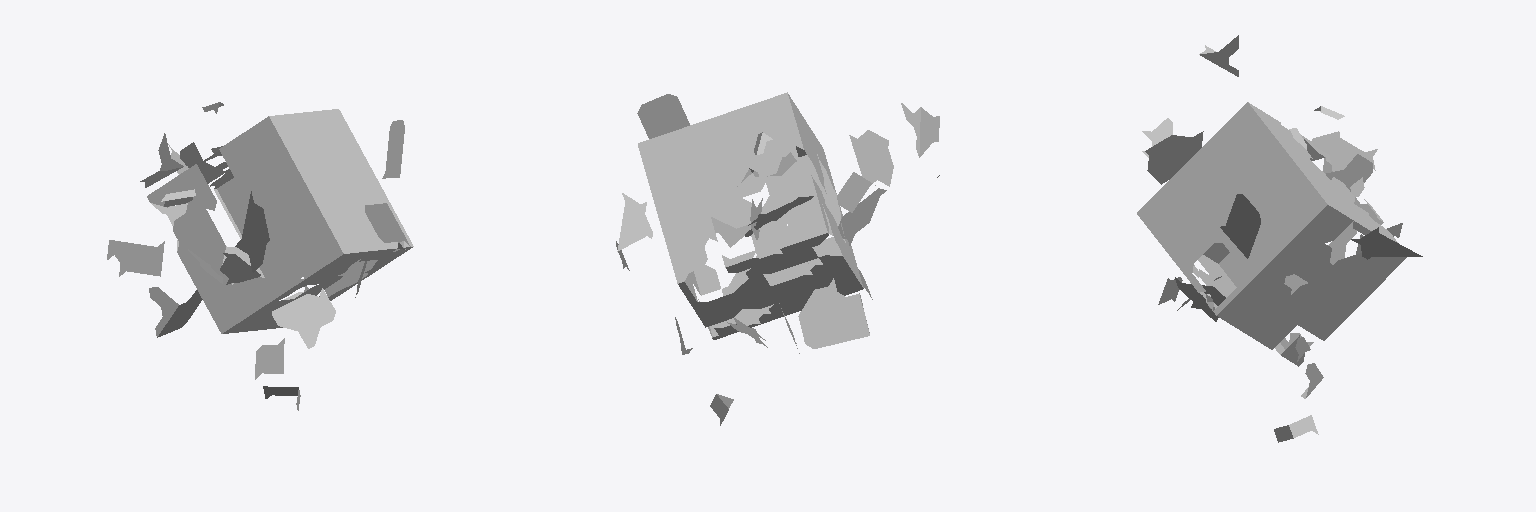
Rendered from explode_000032.obj.
The picture shows the model from 3 angles: view 1: azimuth 30°, elevation 25°; view 2: azimuth 150°, elevation 25°; view 3: azimuth 270°, elevation 25°; orthographic projection.
Parts seen in each view (by area): view 1: Cube_Cube.001; view 2: Cube_Cube.001; view 3: Cube_Cube.001.
Part boxes in pixels (x1,y1,x2,y2): Cube_Cube.001: (107, 102, 413, 410); Cube_Cube.001: (616, 92, 939, 425); Cube_Cube.001: (1137, 35, 1422, 442).
Bounding box in the file's own units: 4.15 × 4.6 × 3.6.